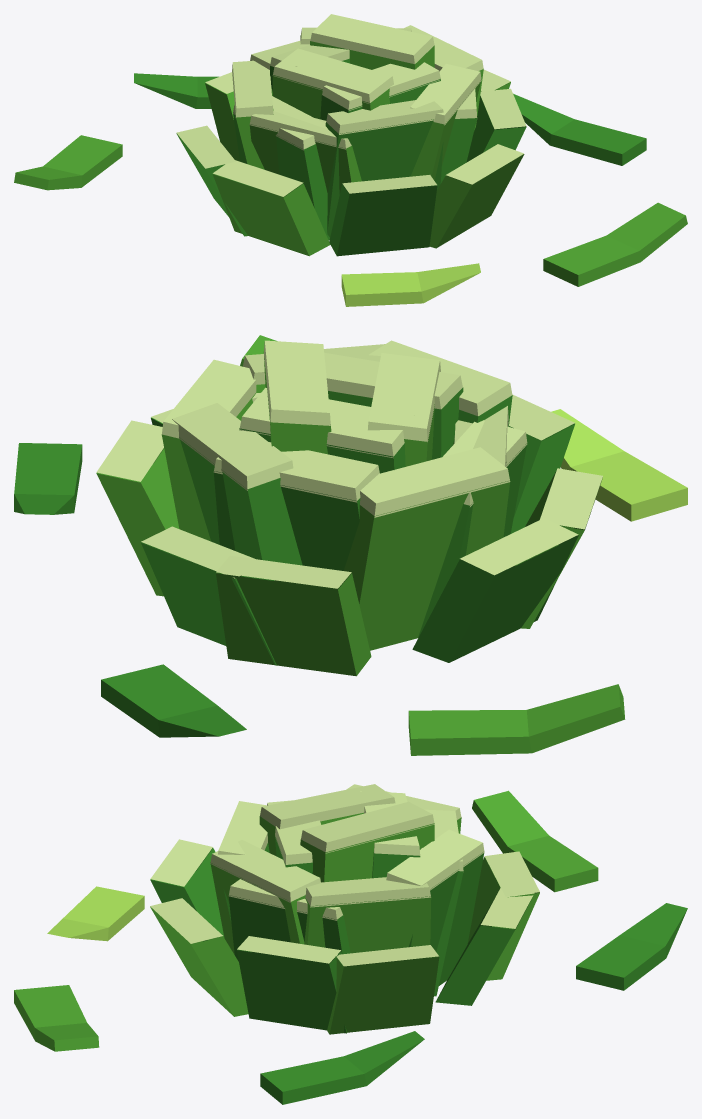
Rendered from tuft_lawn_cut.glb.
3 views of the same model, one above another, from view 1: azimuth 30°, elevation 25°; view 2: azimuth 150°, elevation 25°; view 3: azimuth 270°, elevation 25° (orthographic). The views are drawn at different scales.
Visible parts, largest first — view 1: SmoothPlastic__D6F0A0, Grass__52AE32, Grass__3A962A, Grass__B0EC5C; view 2: SmoothPlastic__D6F0A0, Grass__52AE32, Grass__3A962A, Grass__B0EC5C; view 3: Grass__52AE32, SmoothPlastic__D6F0A0, Grass__3A962A, Grass__B0EC5C.
Part boxes in pixels (x1,y1,x2,y2): SmoothPlastic__D6F0A0: (176,14,526,196); Grass__52AE32: (14,41,687,286); Grass__3A962A: (134,36,646,256); Grass__B0EC5C: (341,263,480,306); SmoothPlastic__D6F0A0: (96,340,602,588); Grass__52AE32: (96,335,625,755); Grass__3A962A: (14,387,578,737); Grass__B0EC5C: (551,409,687,521); Grass__52AE32: (14,790,598,1051); SmoothPlastic__D6F0A0: (150,784,539,966); Grass__3A962A: (150,836,687,1104); Grass__B0EC5C: (47,886,144,941).
Bounding box in the file's own units: 4.64 × 1.27 × 4.68.
